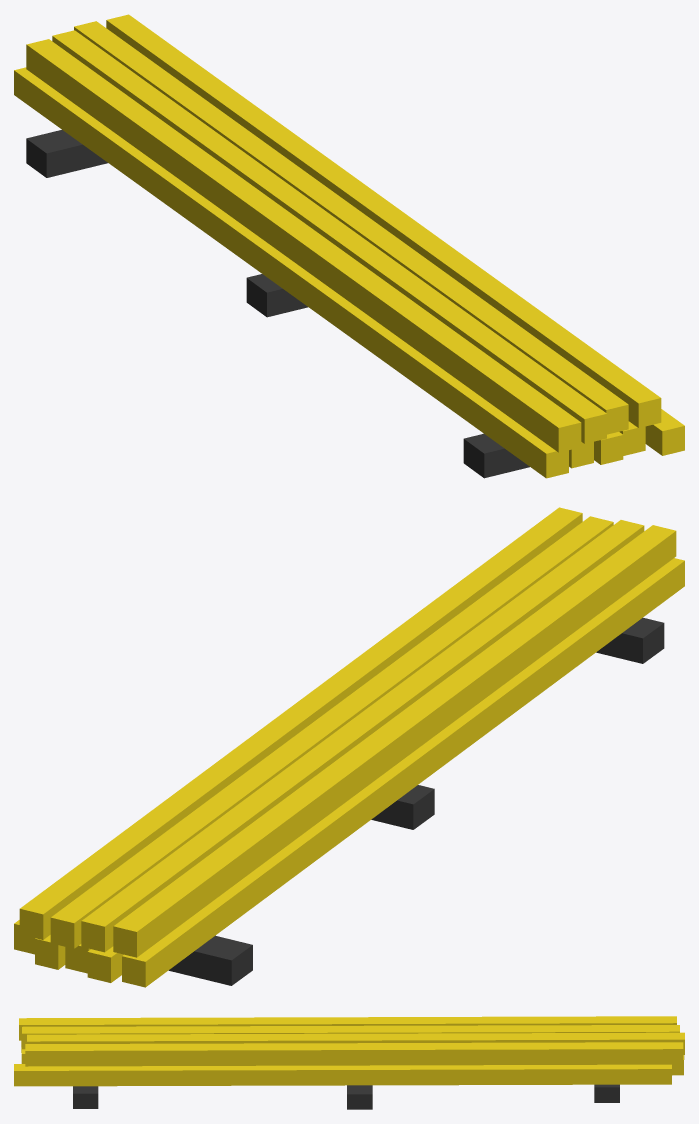
Rendered from planks-yellow.glb.
3 renders of one model, top to bottom at view 1: azimuth 30°, elevation 25°; view 2: azimuth 150°, elevation 25°; view 3: azimuth 270°, elevation 25°, orthographic. The views are drawn at different scales.
Parts seen in each view (by area): view 1: Planks Yellow; view 2: Planks Yellow; view 3: Planks Yellow.
Part boxes in pixels (x1,y1,x2,y2): Planks Yellow: (14, 14, 684, 478); Planks Yellow: (14, 507, 684, 987); Planks Yellow: (14, 1016, 684, 1109).
Size of the model in its own units: 1.69 by 0.6 by 7.86.
Materials: 1 (1 with a texture image).
